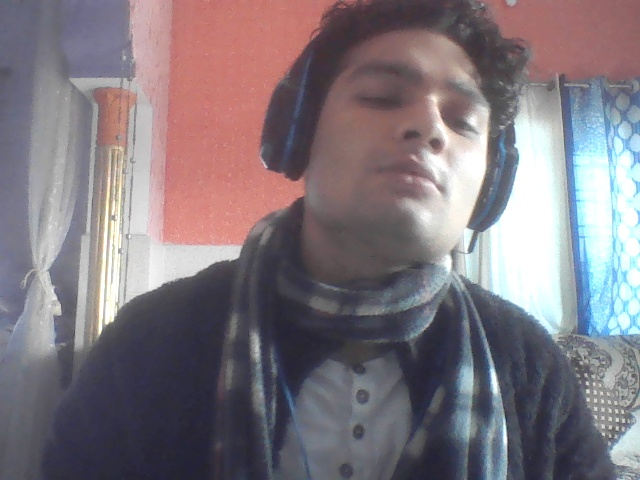real: (298, 0, 491, 273)
